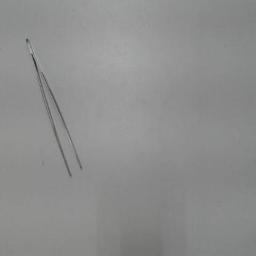Gillies Toothed Dissector: (23, 30, 89, 184)
